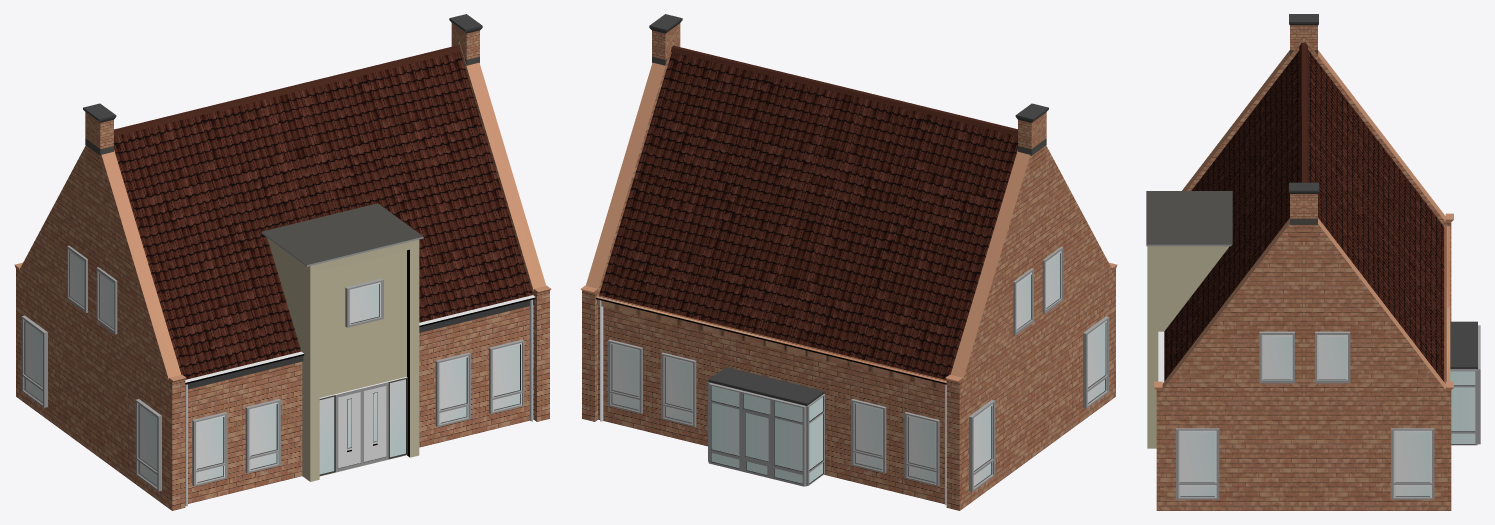
The model's file is It Bynt 15-17.fbx.
The picture shows the model from 3 angles, left to right: view 1: azimuth 30°, elevation 25°; view 2: azimuth 150°, elevation 25°; view 3: azimuth 270°, elevation 25°; orthographic projection. The views are drawn at different scales.
Parts seen in each view (by area): view 1: It_Bynt_15_17; view 2: It_Bynt_15_17; view 3: It_Bynt_15_17.
Part boxes in pixels (<box>): It_Bynt_15_17: <box>14,14,550,510</box>; It_Bynt_15_17: <box>581,14,1117,510</box>; It_Bynt_15_17: <box>1146,14,1480,510</box>.
Bounding box in the file's own units: 12.16 × 10.32 × 9.71.
1 material, 1 textured.
